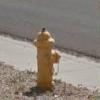Hydrant: (28, 20, 68, 92)
